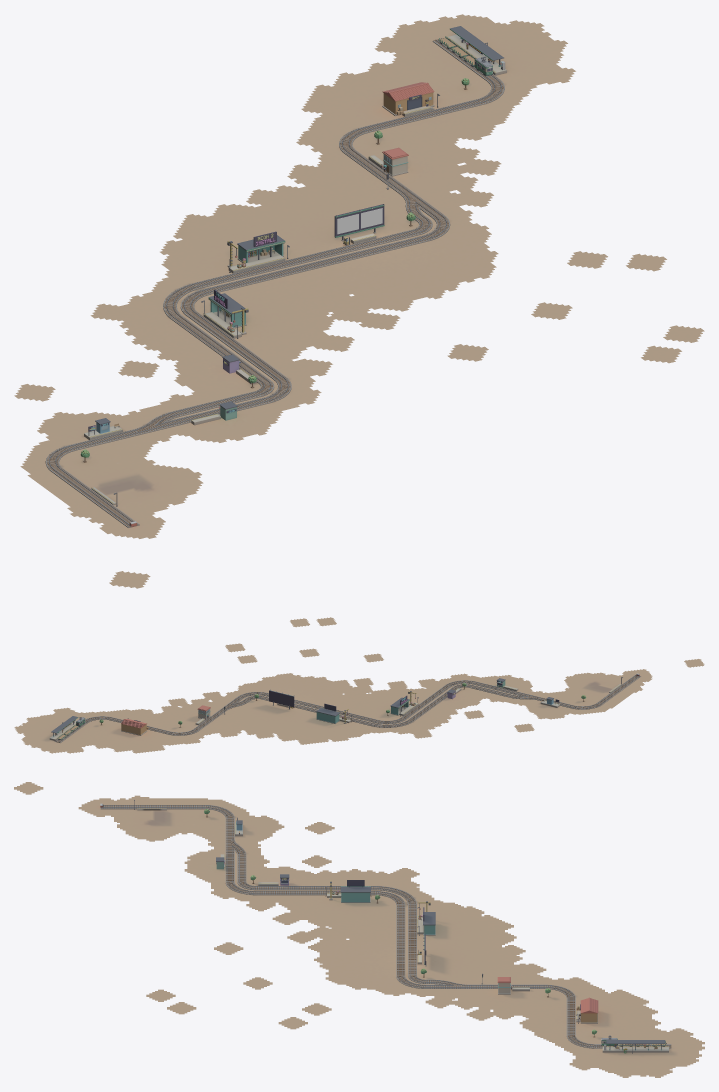
File: strecke.glb
The picture shows the model from 3 angles, top to bottom: view 1: azimuth 30°, elevation 25°; view 2: azimuth 150°, elevation 25°; view 3: azimuth 270°, elevation 25°; orthographic projection. The views are drawn at different scales.
Visible parts, largest first — view 1: Boden.001, AstA_Gleis, AstF_Gleis, Halt_werbung_A, Halt_depot, Gleis_2, AstA_Halt_install_A, Gleis_6, Halt_start, AstF_Halt_install_F, Gleis_7; view 2: Boden.001, AstF_Gleis, AstA_Gleis, Halt_depot, Halt_werbung_A, AstA_Halt_install_A, Halt_start, AstF_Halt_install_F, Gleis_2, Gleis_7, Gleis_6; view 3: Boden.001, AstA_Gleis, AstF_Gleis, Halt_start, AstF_Halt_install_F, Gleis_2, Halt_depot, Gleis_7.
Boxes of the visible parts, x1,y1,x2,y2 form: Boden.001: (14, 14, 704, 588); AstA_Gleis: (134, 192, 432, 431); AstF_Gleis: (160, 202, 450, 428); Halt_werbung_A: (334, 204, 384, 245); Halt_depot: (382, 82, 434, 116); Gleis_2: (339, 99, 481, 153); AstA_Halt_install_A: (228, 235, 285, 273); Gleis_6: (45, 423, 165, 471); Halt_start: (446, 26, 506, 75); AstF_Halt_install_F: (203, 293, 246, 338); Gleis_7: (52, 469, 139, 527); Boden.001: (14, 617, 704, 753); AstF_Gleis: (229, 680, 528, 724); AstA_Gleis: (225, 684, 539, 727); Halt_depot: (121, 719, 146, 735); Halt_werbung_A: (269, 689, 294, 709); AstA_Halt_install_A: (316, 708, 350, 723); Halt_start: (49, 716, 78, 740); AstF_Halt_install_F: (390, 697, 418, 715); Gleis_2: (110, 718, 199, 735); Gleis_7: (597, 675, 640, 704); Gleis_6: (526, 694, 602, 709); Boden.001: (14, 782, 704, 1077); AstA_Gleis: (230, 839, 471, 986); AstF_Gleis: (225, 847, 449, 988); Halt_start: (602, 1040, 668, 1052); AstF_Halt_install_F: (327, 886, 370, 902); Gleis_2: (544, 984, 575, 1034); Halt_depot: (576, 997, 598, 1023); Gleis_7: (100, 805, 203, 809).
Size of what is drawn, in the model's own units: 238 by 7.12 by 235.
